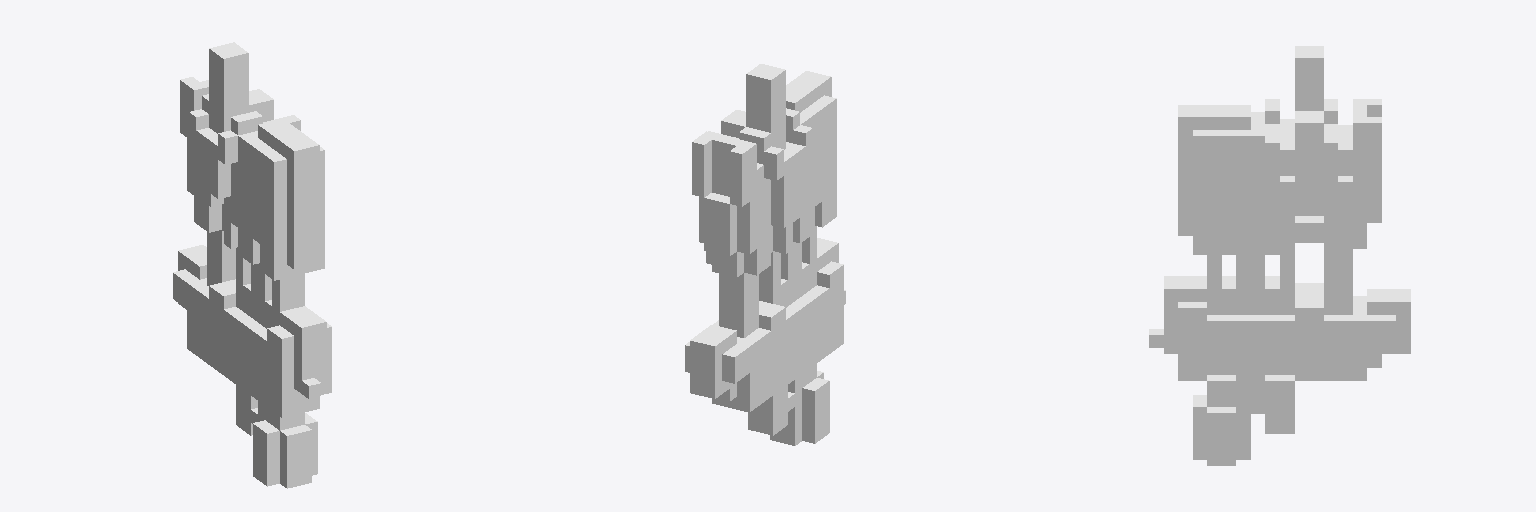
File: Arm-26.obj
3 views of the same model, side by side, from view 1: azimuth 30°, elevation 25°; view 2: azimuth 150°, elevation 25°; view 3: azimuth 270°, elevation 25° (orthographic).
Parts seen in each view (by area): view 1: object 1; view 2: object 1; view 3: object 1.
Part boxes in pixels (bbox=[...]): object 1: bbox=[173, 42, 331, 488]; object 1: bbox=[685, 64, 845, 445]; object 1: bbox=[1149, 46, 1410, 465].
Bounding box in the file's own units: 0.6 × 3 × 1.8.